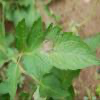Tomato leaf late blight: (20, 28, 99, 80)
